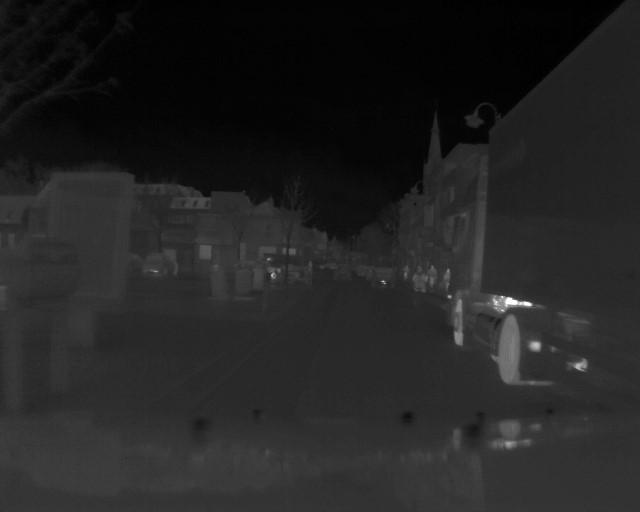car: (448, 172, 640, 340), (142, 251, 179, 278), (371, 266, 394, 288)
person: (410, 264, 427, 294)
